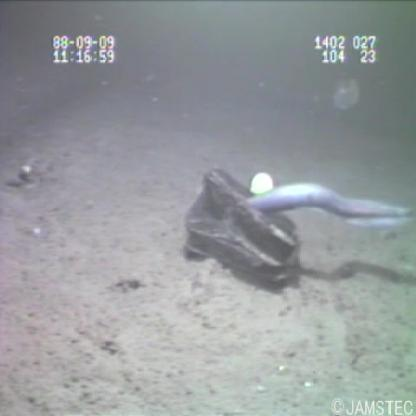Bio: (239, 178, 412, 236)
Rác: (180, 163, 302, 291)
